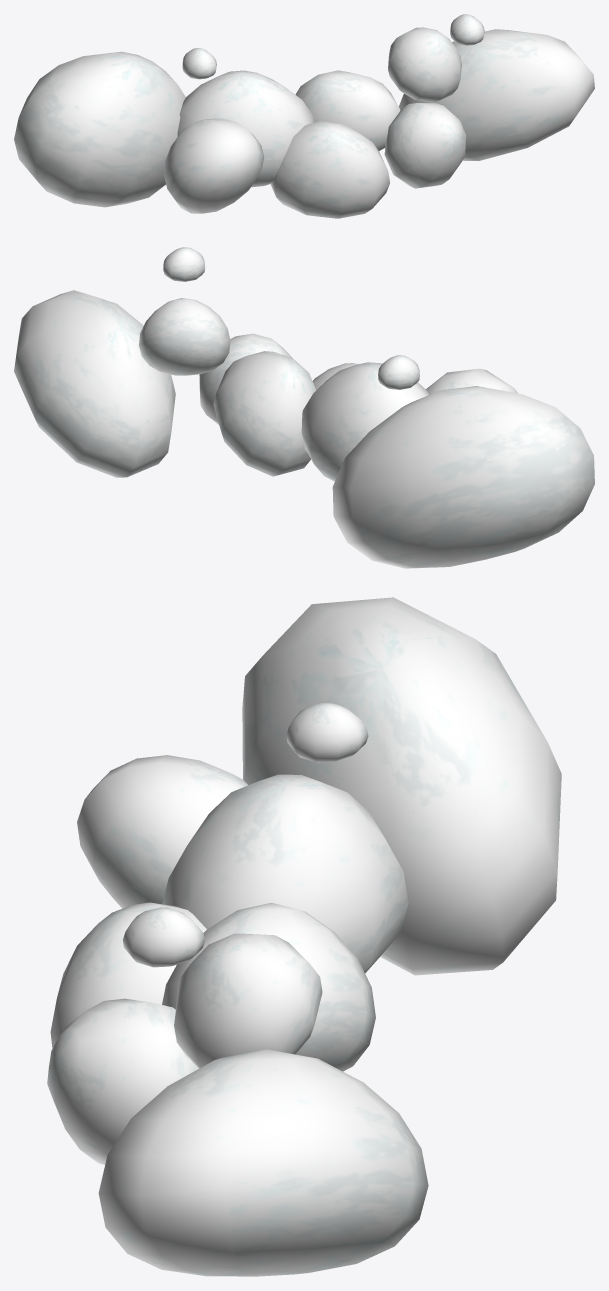
The model's file is WaterfallFoam01.glb.
The picture shows the model from 3 angles, top to bottom: view 1: azimuth 30°, elevation 25°; view 2: azimuth 150°, elevation 25°; view 3: azimuth 270°, elevation 25°; orthographic projection. The views are drawn at different scales.
Parts seen in each view (by area): view 1: WaterfallFoam01; view 2: WaterfallFoam01; view 3: WaterfallFoam01.
Boxes of the visible parts, bbox=[...] form: WaterfallFoam01: bbox=[14, 14, 594, 218]; WaterfallFoam01: bbox=[14, 247, 594, 568]; WaterfallFoam01: bbox=[47, 597, 561, 1276].
Bounding box in the file's own units: 17.34 × 5.34 × 7.43.
Materials: 1 (1 with a texture image).
